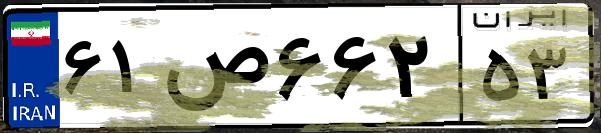1: (110, 28, 158, 98)
2: (385, 28, 445, 110)
3: (525, 38, 570, 115)
5: (475, 38, 525, 113)
6: (270, 28, 330, 110), (330, 28, 385, 110), (57, 26, 110, 100)
ص: (158, 20, 270, 120)
